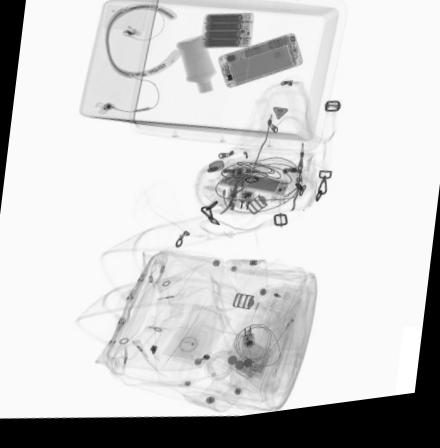Powerbank: (201, 19, 255, 56)
